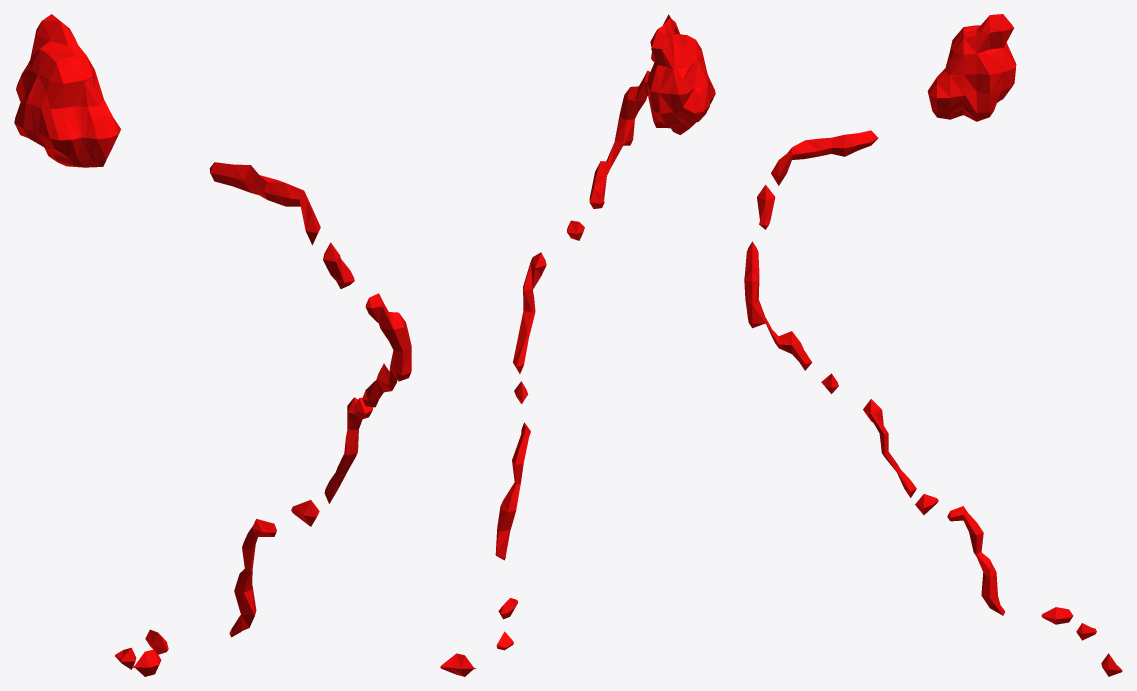
Rendered from nuoC_coarse.dae.
The picture shows the model from 3 angles, left to right: view 1: azimuth 30°, elevation 25°; view 2: azimuth 150°, elevation 25°; view 3: azimuth 270°, elevation 25°; orthographic projection. The views are drawn at different scales.
Visible parts, largest first — view 1: nuoC; view 2: nuoC; view 3: nuoC.
Part boxes in pixels (x1,y1,x2,y2): nuoC: (14, 14, 411, 676); nuoC: (440, 14, 715, 676); nuoC: (744, 14, 1122, 676).
Bounding box in the file's own units: 173 × 445 × 256.
